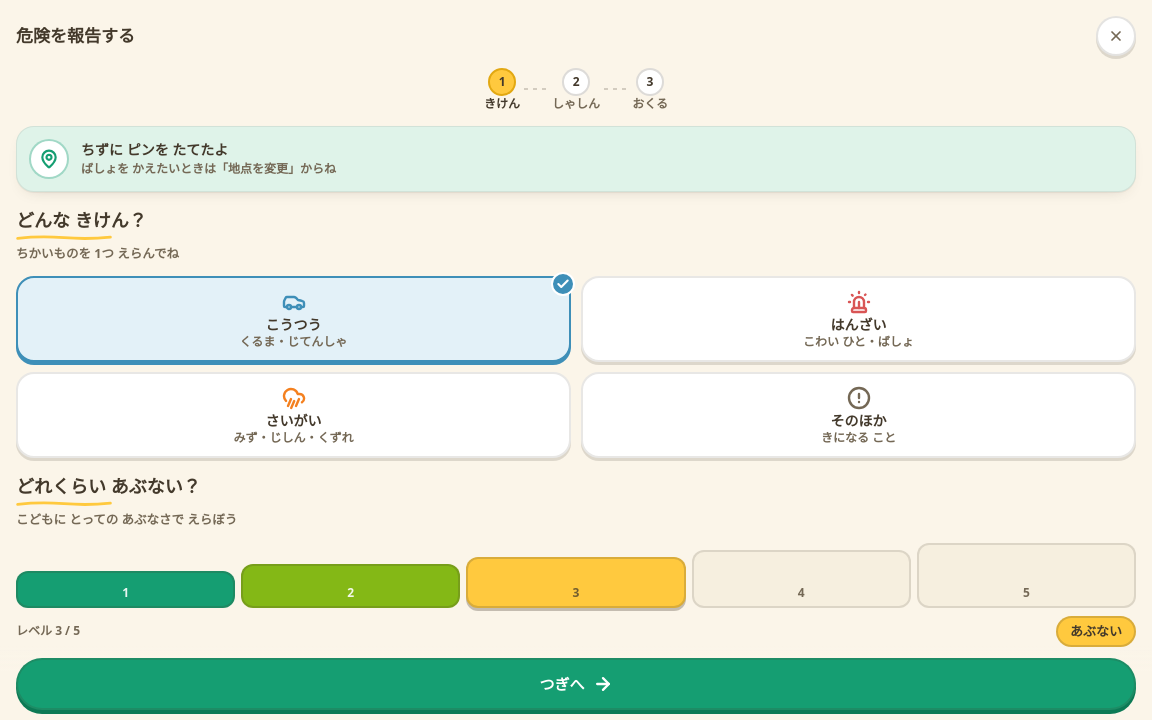
DangerReportForm › 選んだ写真は端末でぼかしてから使い、AI の確認にもぼかした写真だけを渡す(UIUX改装 項目57)
This screenshot has width=1152, height=720.
Later steps or results of the test are not shown.
Click the button with test id "wizard-next" at (576, 684), box 16,658 -> 1136,710
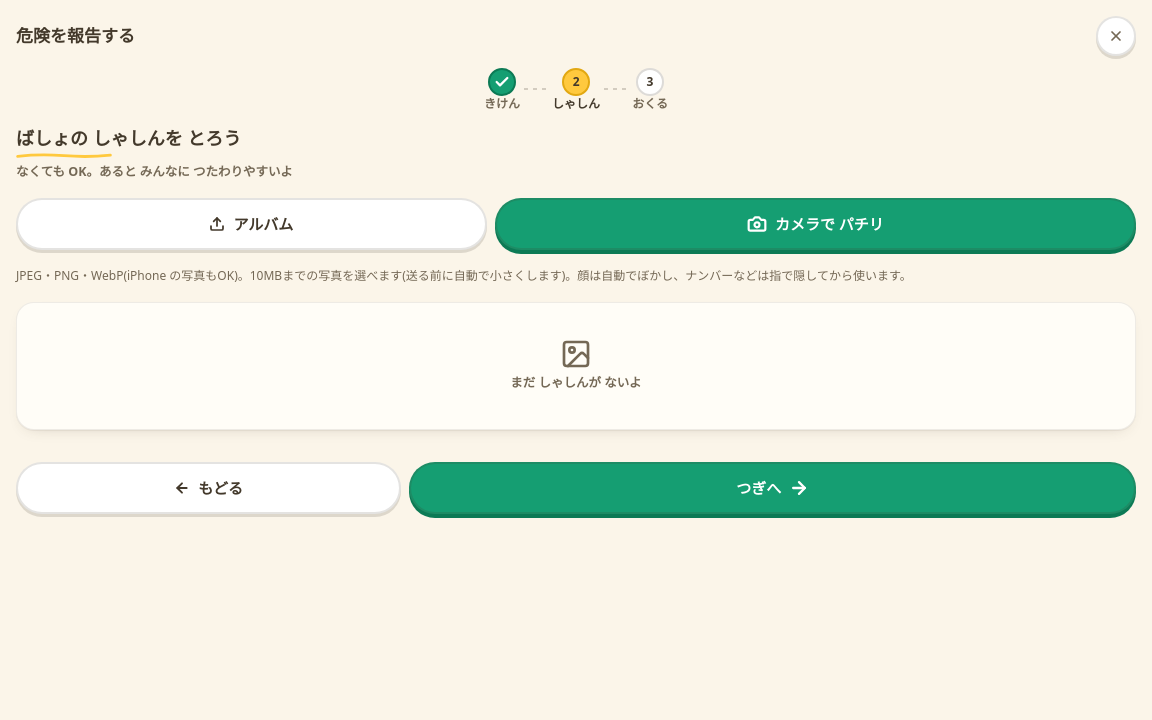
Check: the text with test id "photo-requirements" shows "JPEG・PNG・WebP", box 16,267 -> 912,284
